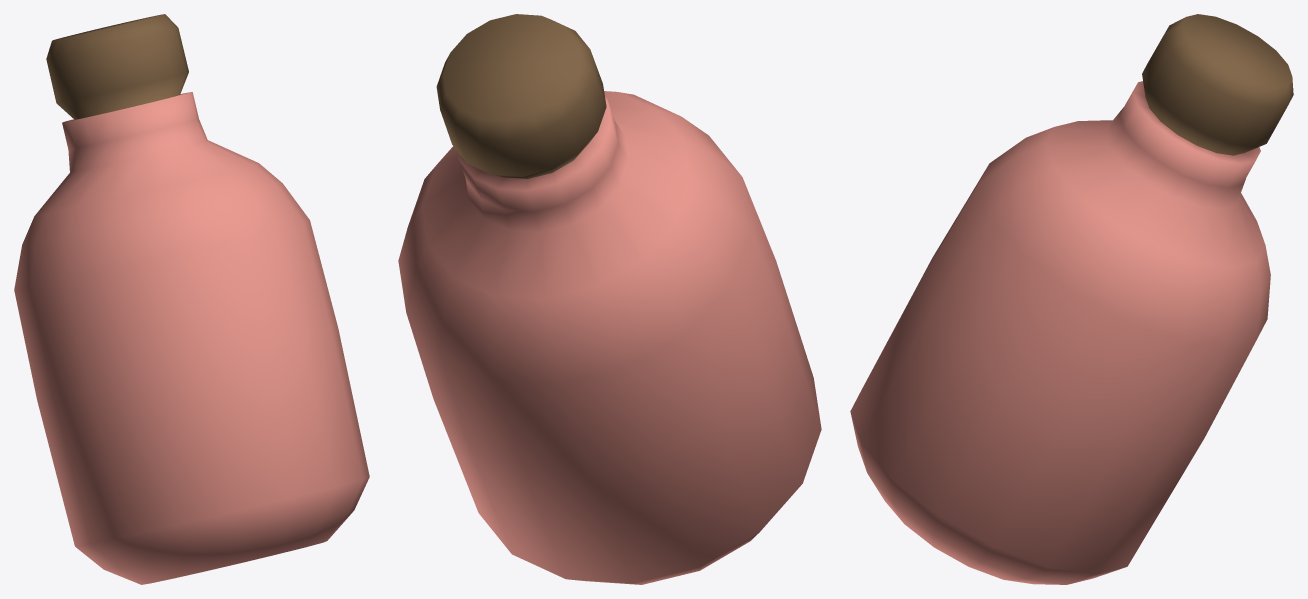
File: tea bottle red.fbx
3 views of the same model, side by side, from view 1: azimuth 30°, elevation 25°; view 2: azimuth 150°, elevation 25°; view 3: azimuth 270°, elevation 25° (orthographic). The views are drawn at different scales.
Parts seen in each view (by area): view 1: botlle; view 2: botlle; view 3: botlle.
Part boxes in pixels (box(x1,y1,x2,y2)): botlle: box(14, 14, 369, 584); botlle: box(398, 14, 821, 584); botlle: box(850, 14, 1293, 584).
Bounding box in the file's own units: 60.18 × 108 × 80.53.
